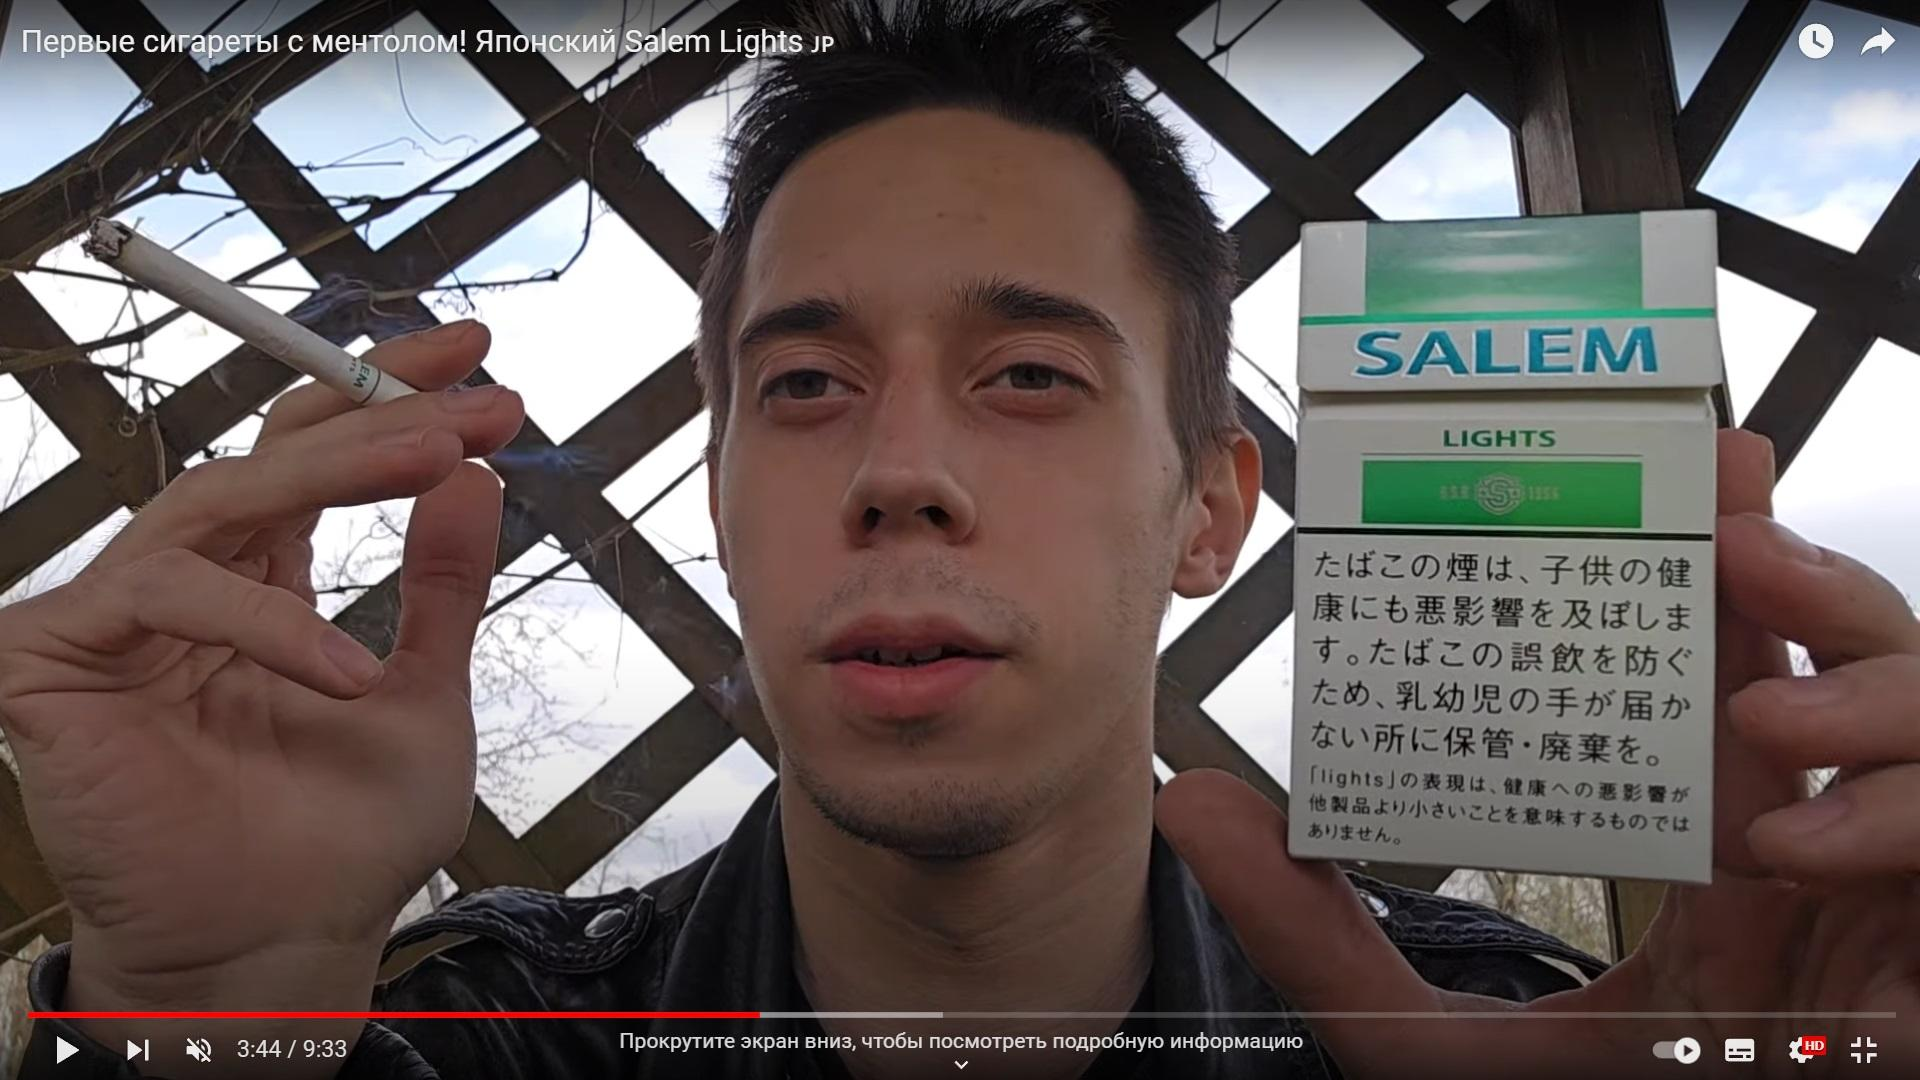cigarette: (80, 218, 422, 405)
